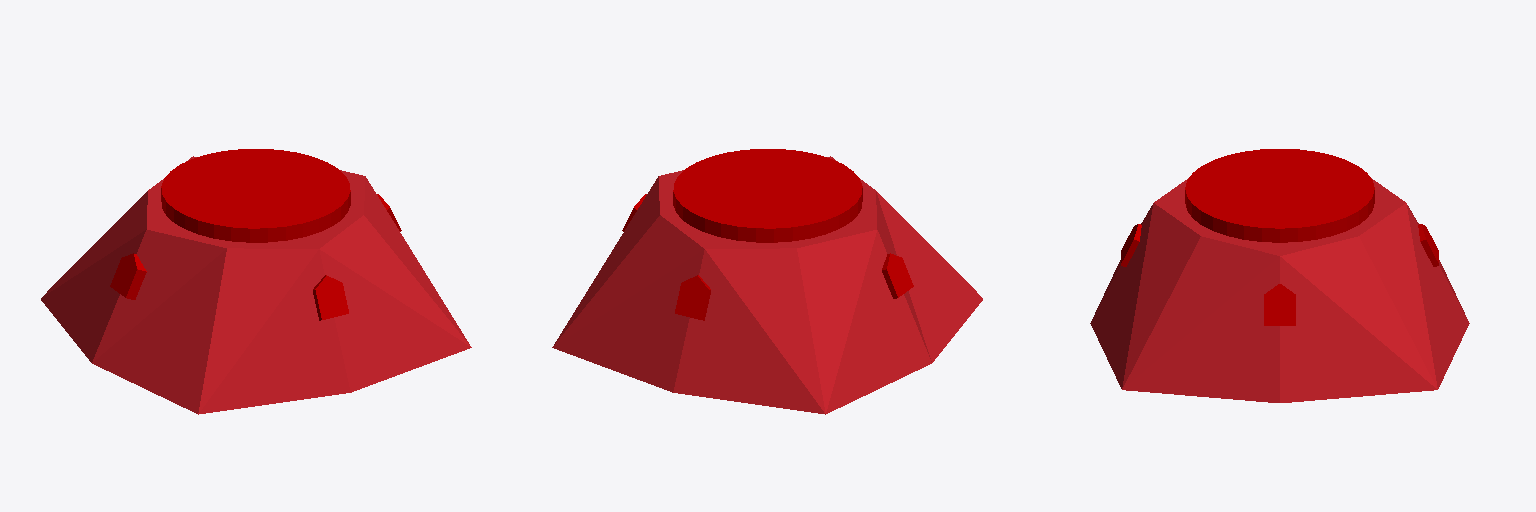
Rendered from mortar1.obj.
3 renders of one model, left to right at view 1: azimuth 30°, elevation 25°; view 2: azimuth 150°, elevation 25°; view 3: azimuth 270°, elevation 25°, orthographic.
Visible parts, largest first — view 1: Cube.002; view 2: Cube.002; view 3: Cube.002.
Part boxes in pixels (x1,y1,x2,y2): Cube.002: (41,149,471,414); Cube.002: (552,149,982,414); Cube.002: (1090,149,1469,402).
Size of the model in its own units: 2.4 by 0.9405 by 2.4.